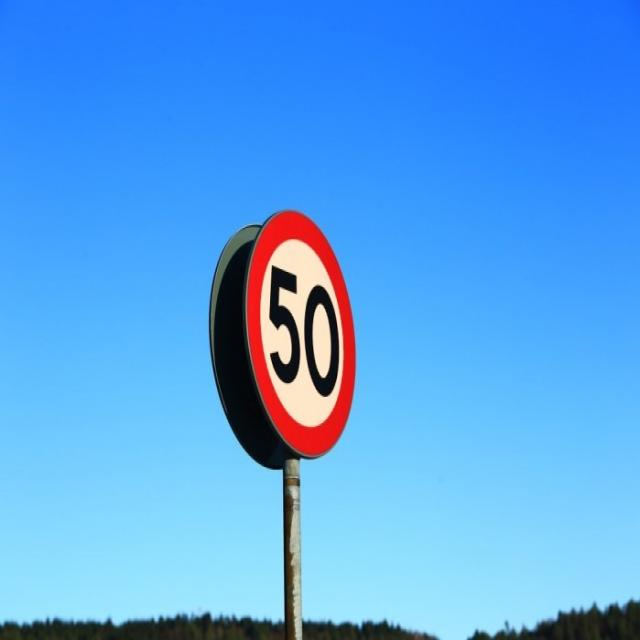Speed Limit -50-: (266, 261, 342, 399)
